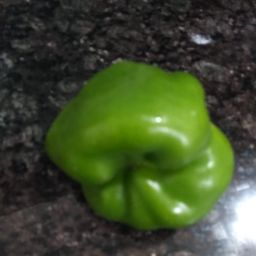Bell pepper: (35, 51, 239, 242)
